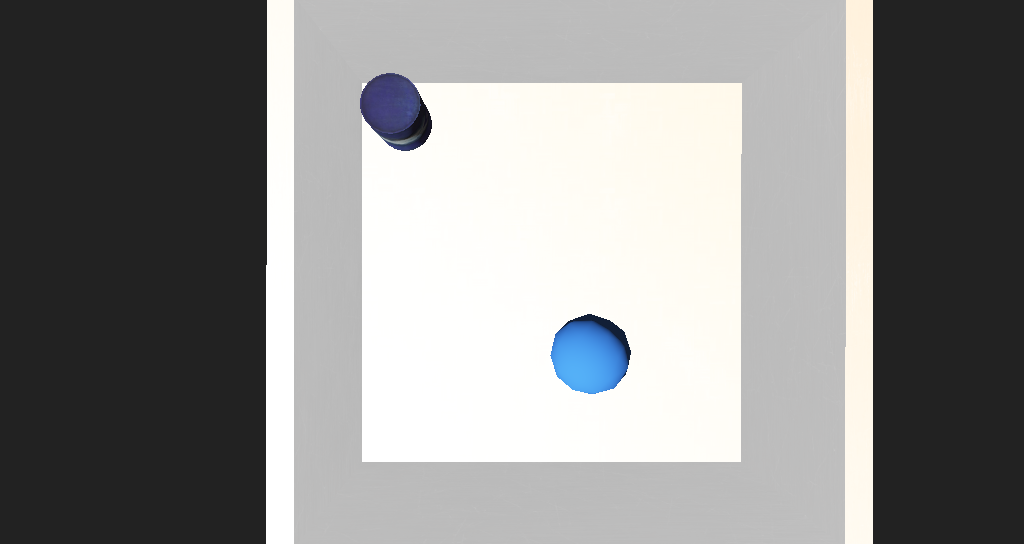cone: (354, 160, 414, 203)
cylinder: (549, 17, 623, 107)
sphere: (509, 293, 569, 336)
